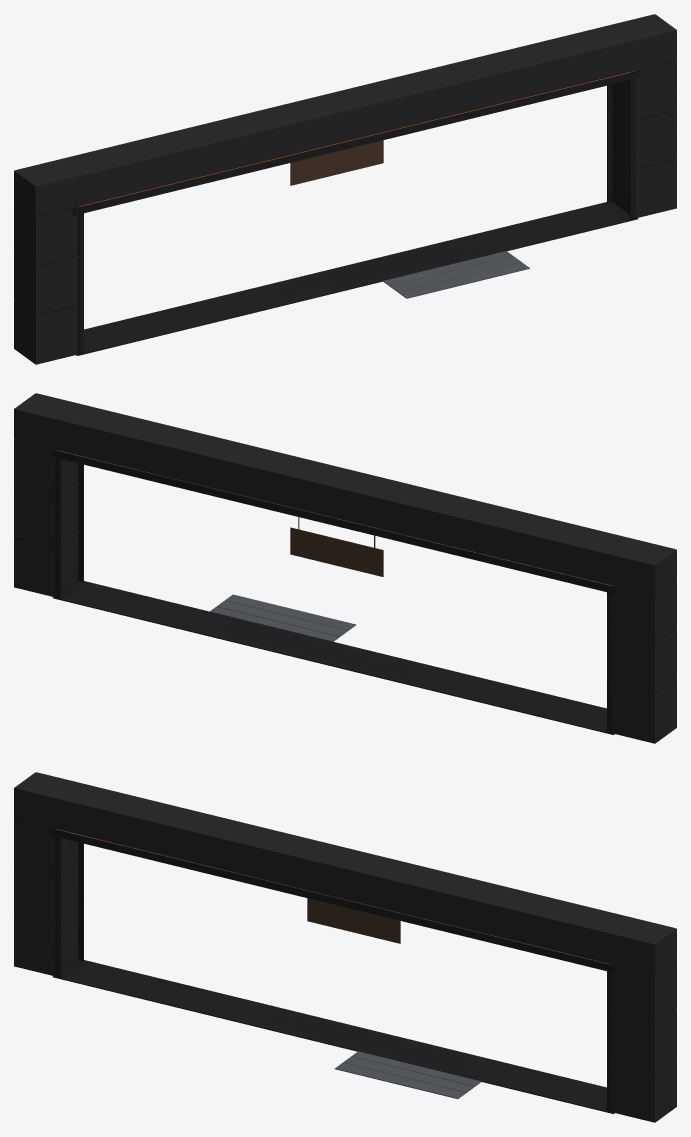
Rendered from atrium_portal.glb.
3 renders of one model, top to bottom at view 1: azimuth 30°, elevation 25°; view 2: azimuth 150°, elevation 25°; view 3: azimuth 330°, elevation 25°, orthographic.
Parts seen in each view (by area): view 1: atrium_portal; view 2: atrium_portal; view 3: atrium_portal.
Part boxes in pixels (x1=…): atrium_portal: x1=14, y1=14, x2=676, y2=364; atrium_portal: x1=14, y1=393, x2=676, y2=743; atrium_portal: x1=14, y1=772, x2=676, y2=1122.
Bounding box in the file's own units: 13.53 × 3.6 × 1.76.
Materials: 1 (1 with a texture image).
